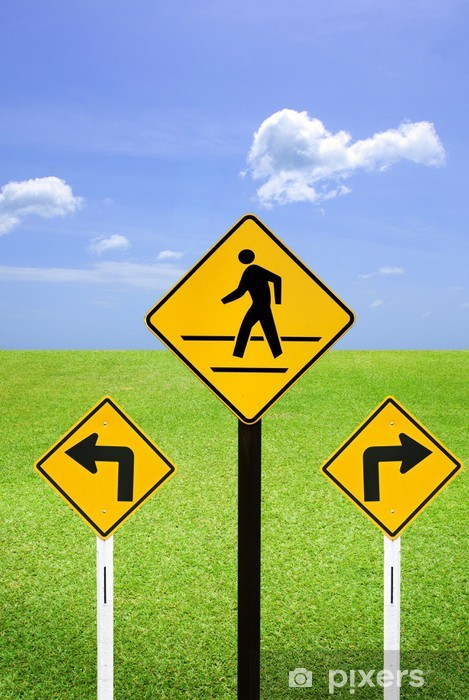left: (31, 390, 171, 541)
right: (316, 390, 464, 542)
